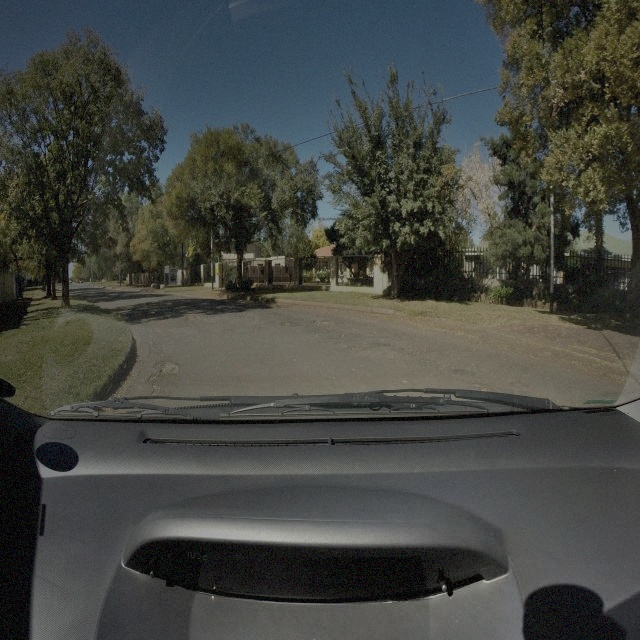pothole: (154, 360, 181, 376), (311, 317, 335, 328), (187, 313, 206, 323), (149, 371, 158, 381), (280, 319, 291, 327)
